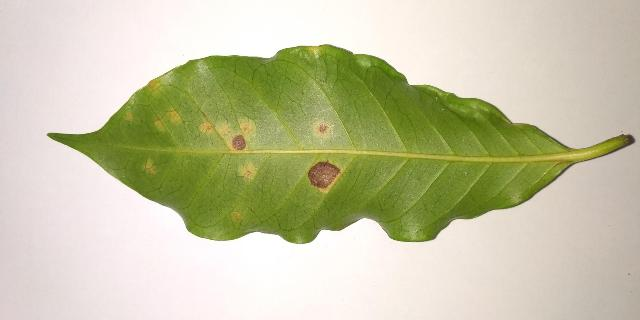miner: (308, 161, 342, 192), (219, 122, 253, 153), (143, 161, 156, 175), (146, 78, 160, 91), (242, 166, 255, 179), (315, 124, 329, 136), (201, 121, 215, 133), (168, 110, 181, 122), (154, 118, 163, 128), (308, 47, 321, 52), (126, 113, 134, 119)
